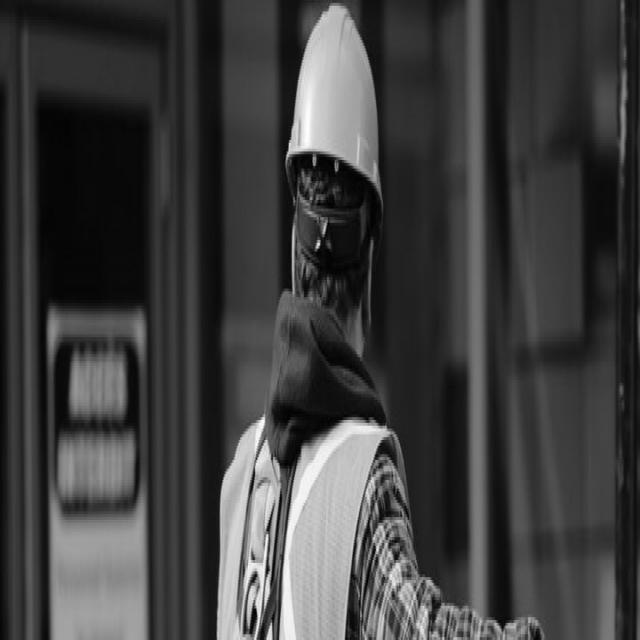safety_helmet: (284, 3, 384, 231)
